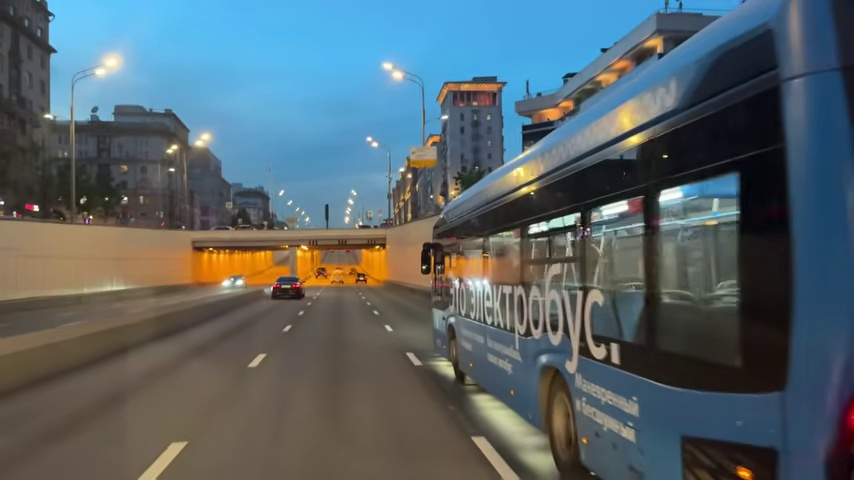acesa: (98, 54, 120, 73), (385, 65, 404, 82), (247, 353, 265, 370), (194, 133, 211, 150), (365, 135, 379, 150)
